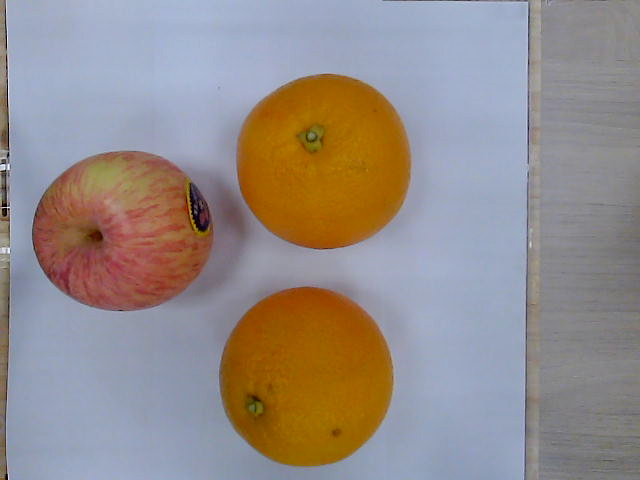fresh_apple: (33, 152, 215, 311)
fresh_orange: (220, 284, 395, 468), (236, 71, 411, 251)
